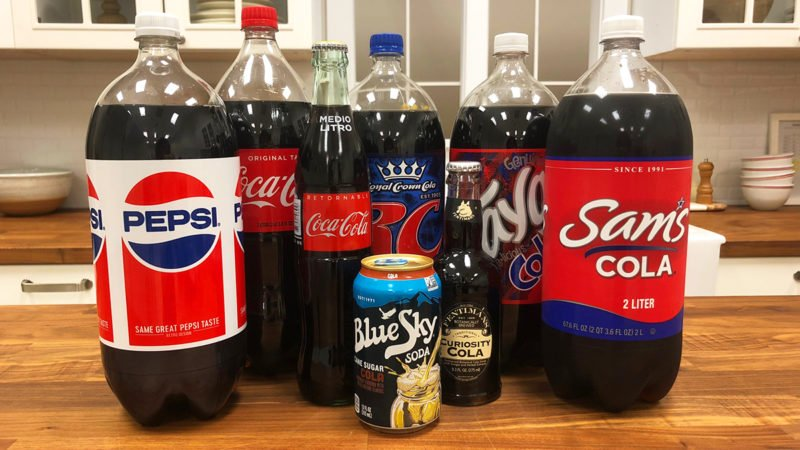Coca-Cola: (301, 44, 362, 395)
Pepsi: (98, 27, 247, 411)
